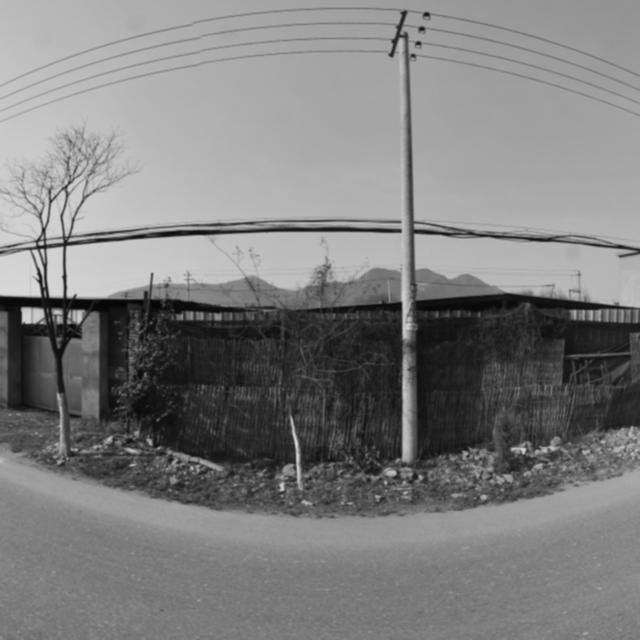pole: (389, 77, 423, 462)
